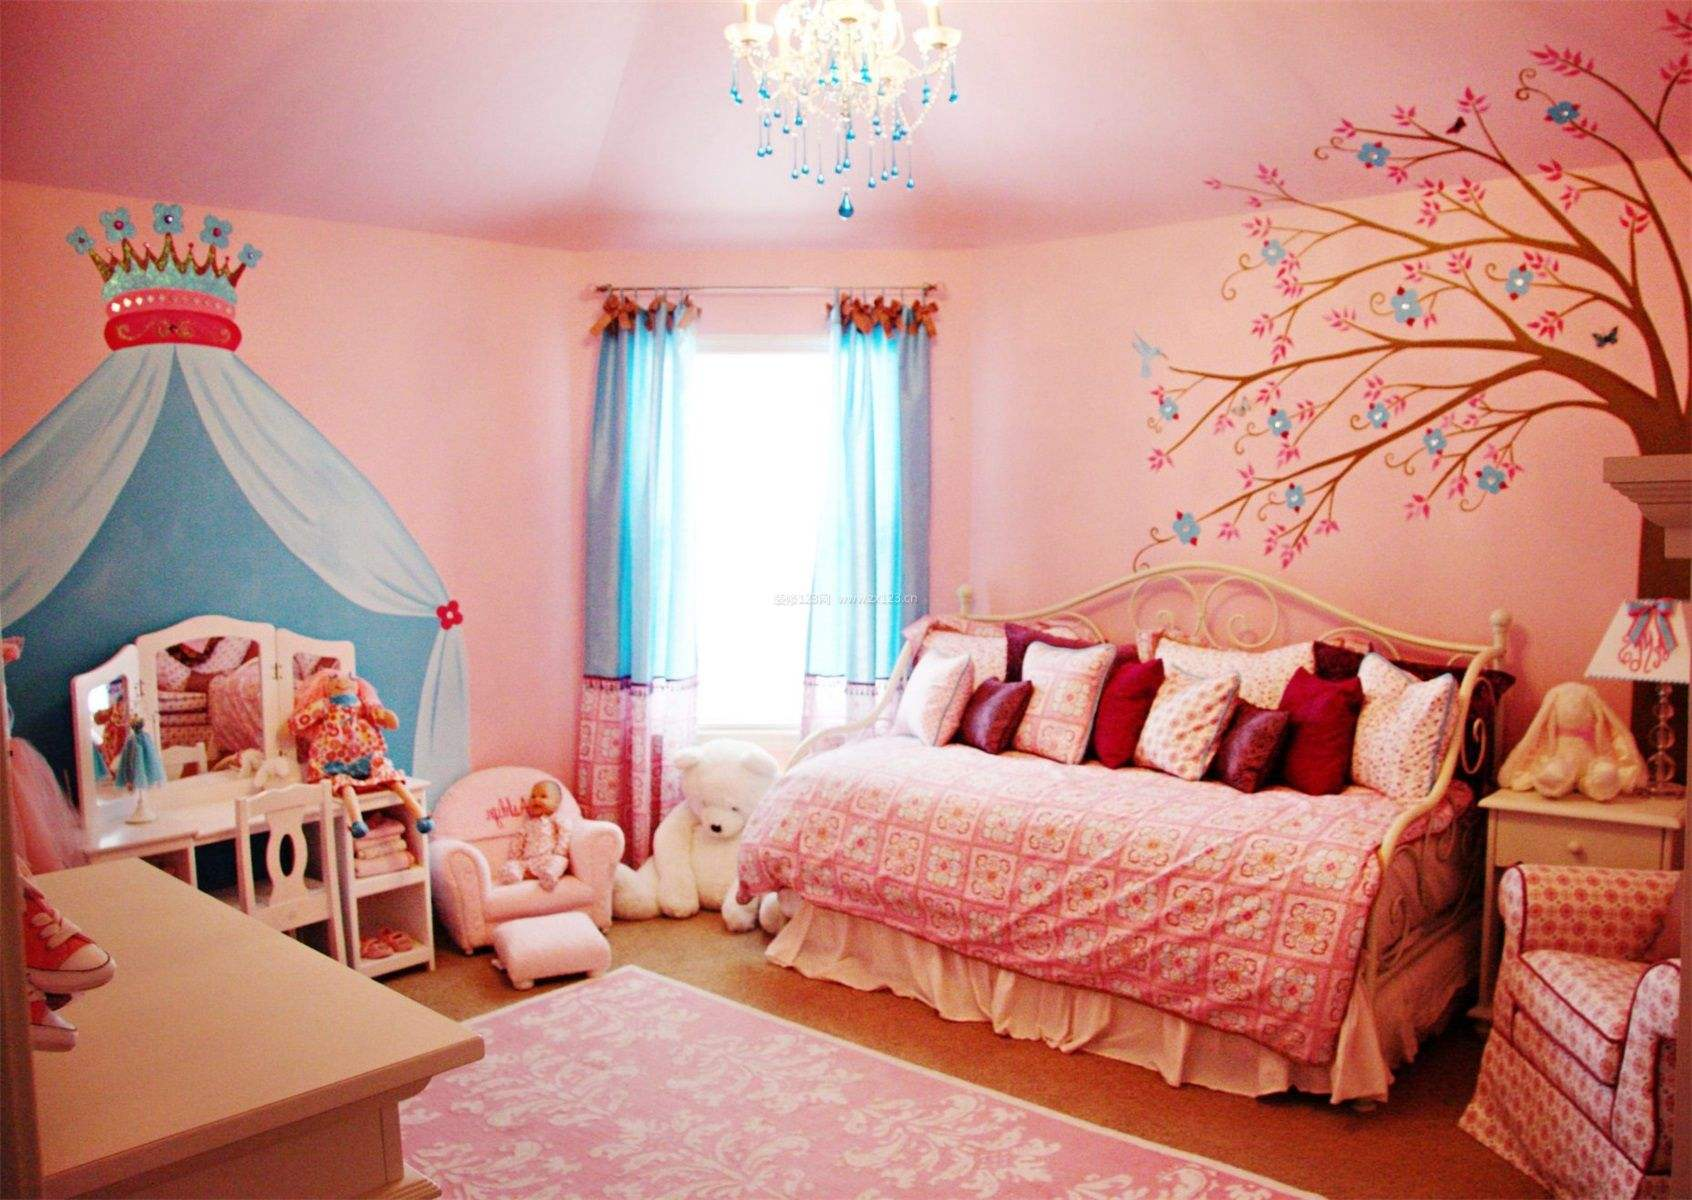床: (671, 726, 1483, 1096)
枕头: (883, 613, 1505, 784)
灯: (726, 5, 973, 223), (1617, 592, 1692, 804)
